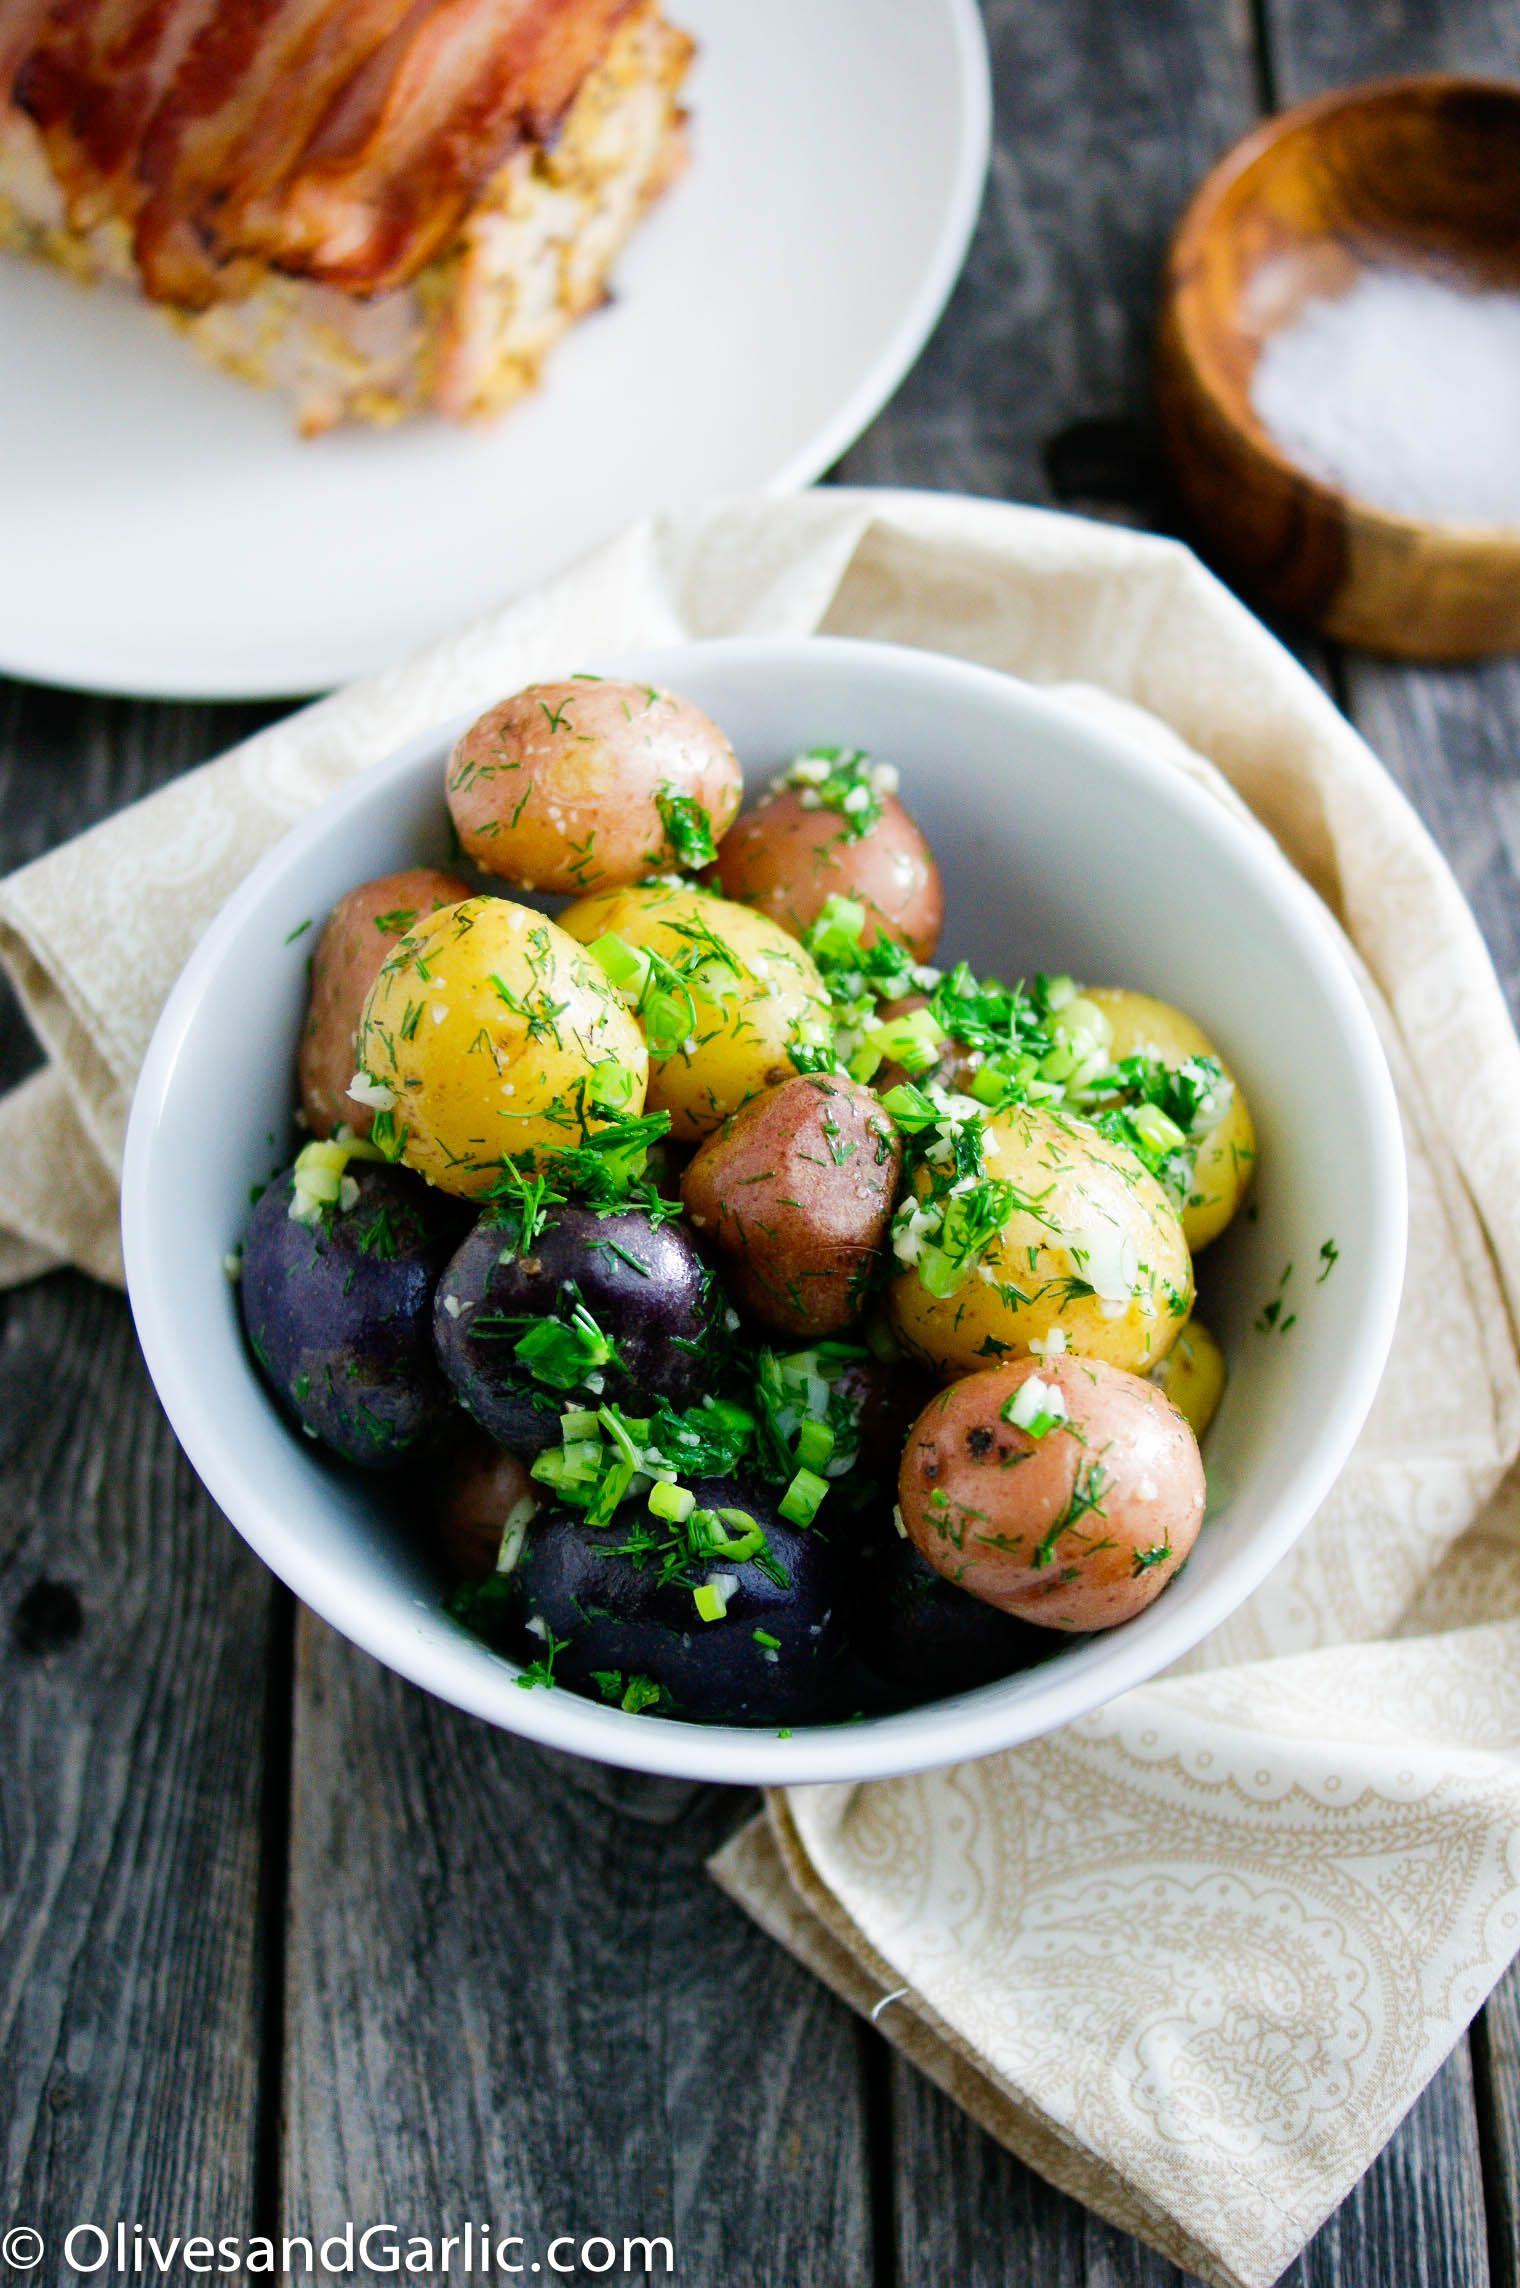boiled potatoes: (896, 1367, 1221, 1616), (395, 899, 629, 1186), (607, 1055, 891, 1281), (434, 665, 712, 880), (931, 1119, 1172, 1364), (568, 872, 826, 1099), (1074, 994, 1266, 1255), (750, 753, 947, 980)
